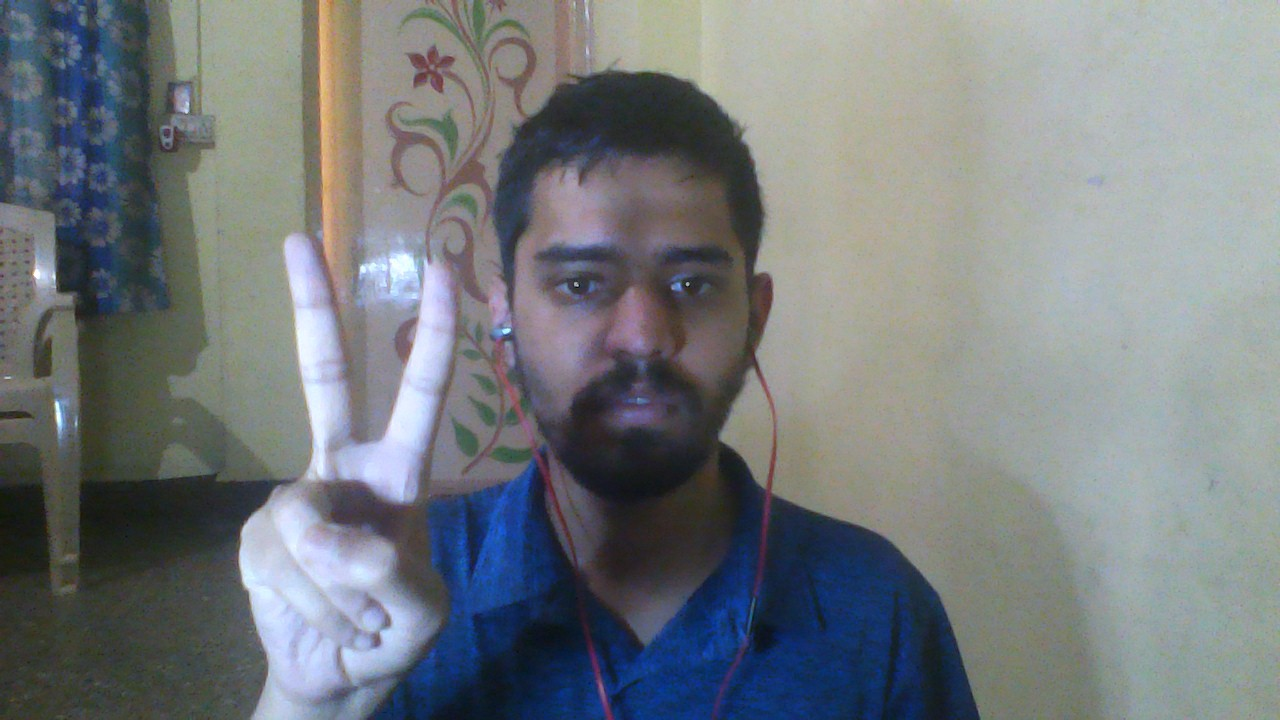v: (198, 219, 488, 710)
